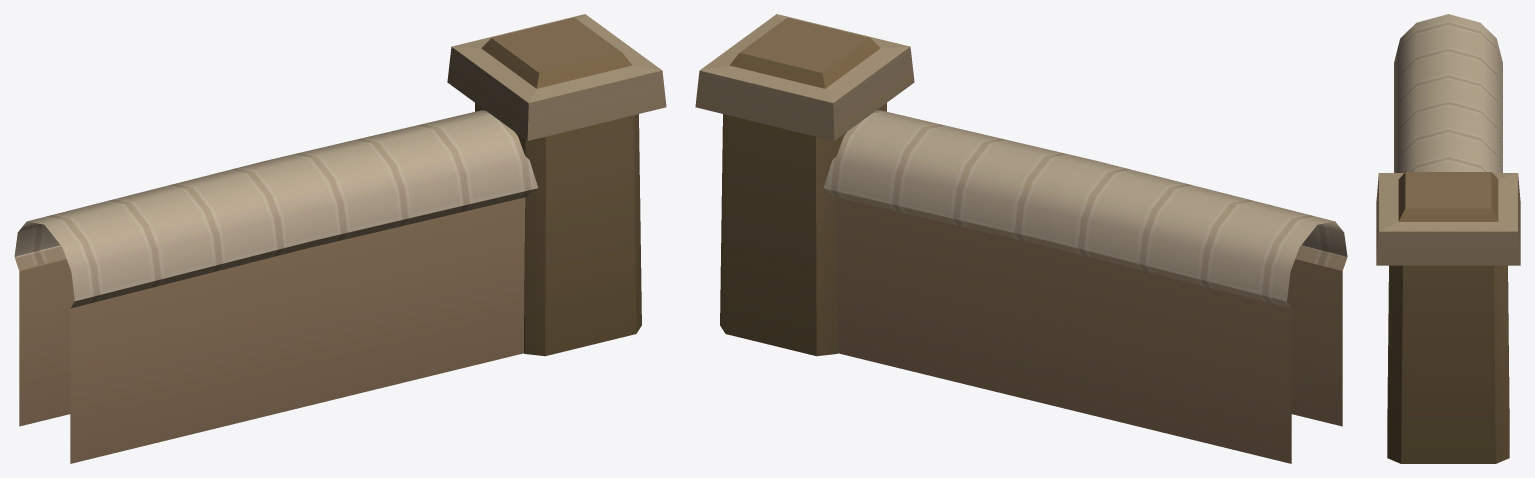
Rendered from MESH_Muret_02.fbx.
3 views of the same model, side by side, from view 1: azimuth 30°, elevation 25°; view 2: azimuth 150°, elevation 25°; view 3: azimuth 270°, elevation 25° (orthographic). The views are drawn at different scales.
Parts seen in each view (by area): view 1: MESH_Muret_02; view 2: MESH_Muret_02; view 3: MESH_Muret_02.
Part boxes in pixels (box(x1,y1,x2,y2)): MESH_Muret_02: box(14, 14, 666, 463); MESH_Muret_02: box(695, 14, 1347, 463); MESH_Muret_02: box(1376, 14, 1520, 463).
Size of the model in its own units: 3.13 by 1.41 by 0.7481.
